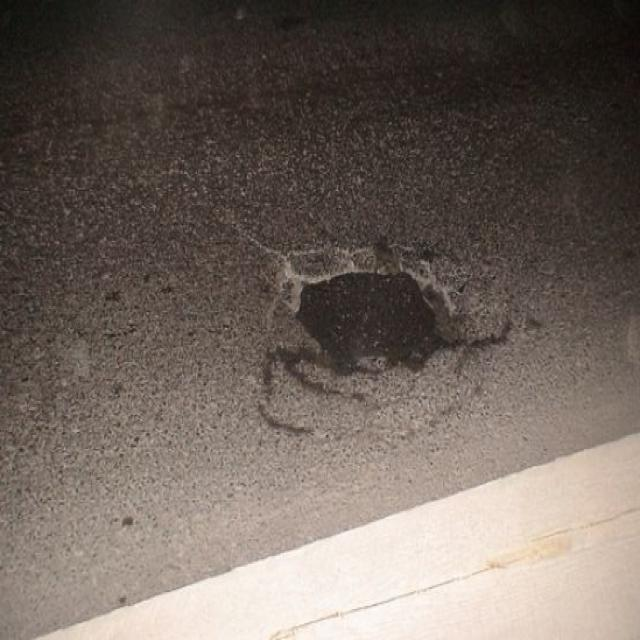pothole: (288, 244, 477, 379)
